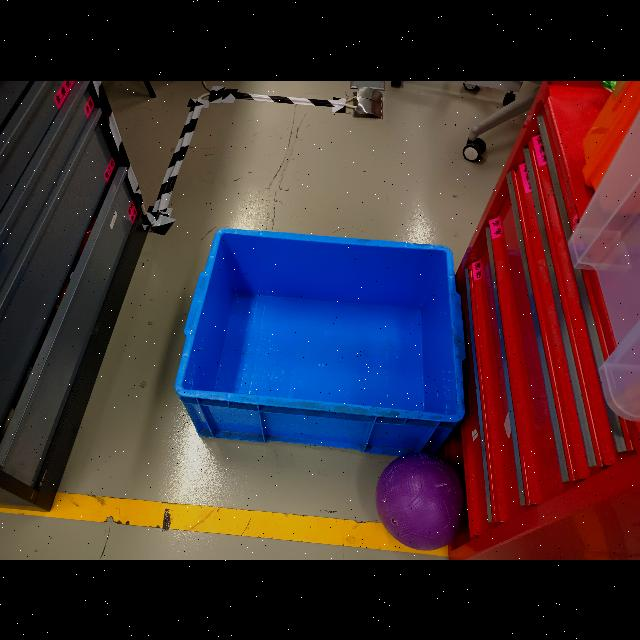P: (374, 451, 464, 551)
